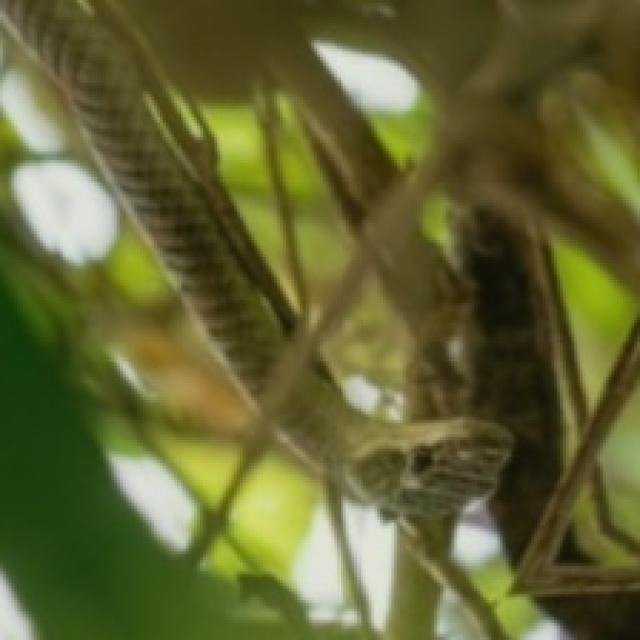paradise tree snake: (0, 0, 637, 637), (0, 0, 511, 529), (274, 29, 394, 229), (317, 37, 423, 114)
